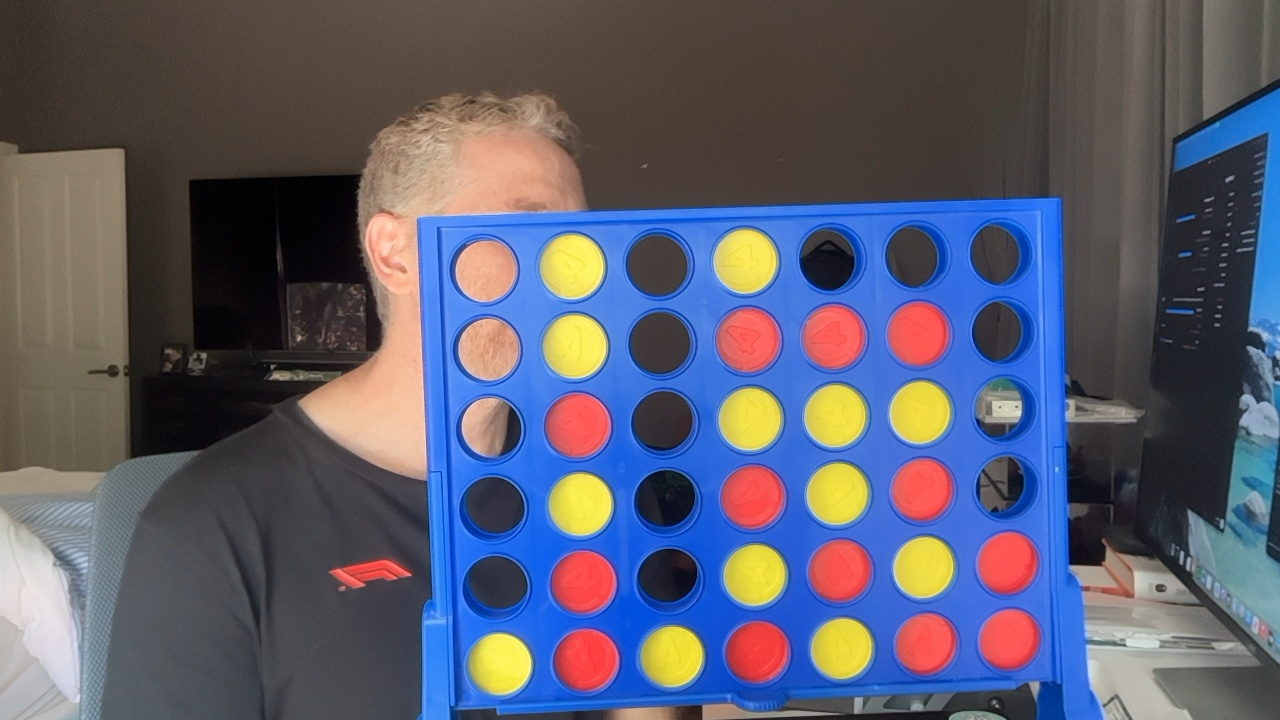red piece: (544, 393, 610, 457), (716, 307, 780, 372), (551, 550, 616, 614), (553, 629, 619, 692), (802, 304, 865, 369), (890, 458, 954, 521), (721, 465, 784, 529), (888, 301, 950, 366), (808, 539, 871, 602), (725, 621, 789, 683), (895, 613, 957, 675), (979, 609, 1040, 671), (977, 531, 1037, 594)
yellow piece: (713, 228, 778, 294), (539, 233, 604, 299), (542, 313, 607, 378), (548, 472, 613, 537), (718, 386, 782, 451), (804, 383, 867, 448), (806, 462, 869, 526), (467, 633, 531, 696), (640, 625, 704, 688), (723, 544, 787, 607), (810, 617, 873, 680), (890, 380, 952, 444), (893, 536, 955, 599)
